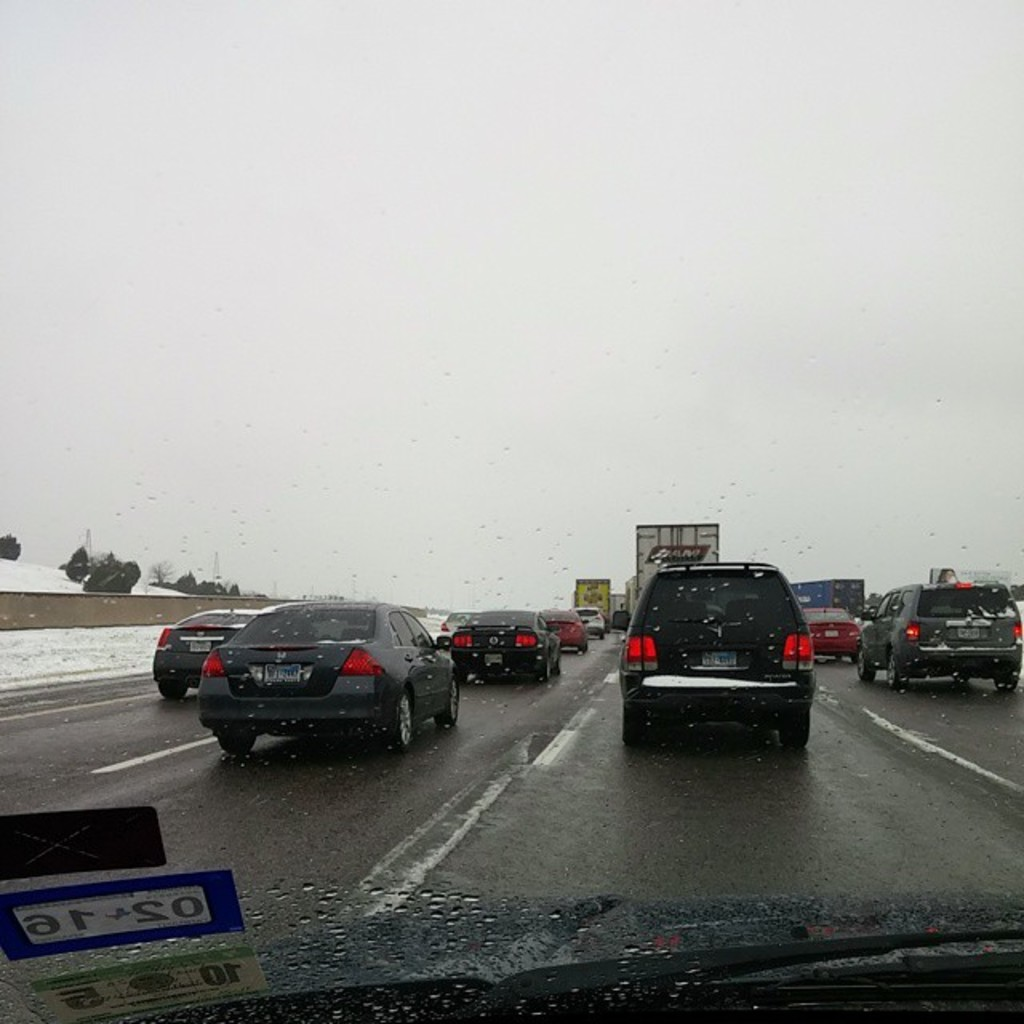Car: (198, 596, 462, 756), (622, 558, 814, 747), (848, 574, 1022, 689), (153, 598, 273, 699), (454, 609, 560, 681), (800, 601, 857, 660), (539, 606, 593, 652)
